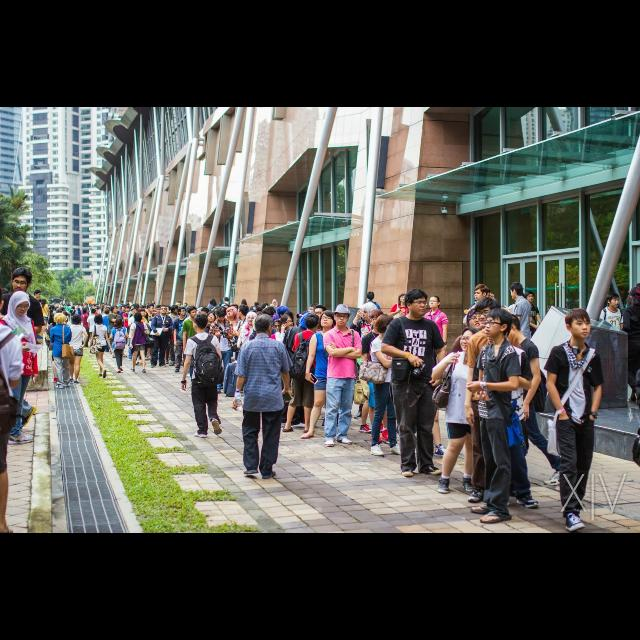head: (565, 308, 593, 340), (484, 309, 512, 339), (476, 298, 502, 329), (12, 268, 34, 296), (405, 290, 427, 316), (460, 328, 482, 354), (502, 312, 522, 338), (254, 314, 274, 338), (485, 322, 505, 346), (0, 288, 14, 320), (12, 292, 30, 316), (375, 314, 395, 334), (360, 304, 380, 322), (378, 314, 396, 334), (193, 314, 209, 334), (305, 314, 321, 334), (334, 306, 350, 326), (369, 310, 385, 330), (320, 310, 336, 328), (475, 284, 489, 302), (510, 283, 524, 301), (606, 293, 620, 309), (282, 315, 294, 331), (237, 305, 249, 319), (246, 312, 258, 326), (302, 313, 314, 327), (278, 308, 290, 320), (429, 297, 441, 309), (273, 320, 283, 334), (188, 307, 198, 319), (227, 307, 237, 319), (525, 291, 535, 303), (218, 309, 226, 323), (207, 312, 217, 322), (56, 314, 64, 324), (73, 315, 81, 325), (34, 290, 42, 300), (160, 306, 168, 316), (170, 306, 180, 314), (400, 294, 408, 304), (51, 314, 59, 322), (95, 315, 103, 323), (111, 306, 119, 314), (138, 309, 146, 317), (135, 314, 143, 322), (178, 308, 186, 316), (367, 292, 375, 300), (178, 310, 185, 318), (116, 319, 122, 327), (132, 309, 138, 317), (155, 306, 161, 314), (41, 299, 47, 305), (105, 310, 111, 316), (125, 306, 131, 312), (139, 310, 145, 316), (272, 300, 278, 306), (223, 297, 229, 303), (83, 310, 89, 314), (122, 306, 126, 312), (92, 310, 96, 314), (212, 300, 216, 304)
person: (462, 298, 534, 504), (494, 312, 574, 488), (379, 288, 446, 478), (464, 307, 520, 525), (478, 321, 540, 511), (430, 327, 492, 496), (231, 314, 293, 480), (0, 266, 46, 432), (358, 312, 408, 458), (0, 291, 40, 447), (300, 310, 348, 440), (322, 304, 363, 448), (181, 314, 225, 438), (361, 312, 399, 446), (284, 314, 322, 434), (282, 313, 321, 429), (348, 302, 386, 421), (500, 282, 534, 382), (462, 284, 496, 381), (361, 309, 389, 417), (274, 314, 302, 418), (266, 320, 296, 410), (596, 291, 626, 381), (420, 295, 450, 377), (237, 312, 265, 396), (209, 308, 235, 394), (48, 312, 76, 390), (268, 305, 296, 379), (182, 306, 206, 386), (518, 290, 546, 358), (232, 304, 254, 388), (45, 312, 67, 384), (67, 314, 89, 386), (222, 307, 242, 385), (89, 314, 113, 378), (150, 305, 174, 369), (388, 293, 414, 352), (172, 307, 194, 373), (362, 291, 382, 355), (129, 312, 149, 374), (109, 318, 129, 374), (203, 312, 221, 374), (108, 306, 128, 358), (165, 305, 182, 365), (169, 318, 189, 368), (134, 308, 150, 367), (136, 309, 152, 361), (128, 308, 142, 362), (152, 305, 166, 353), (100, 309, 114, 353), (86, 308, 100, 348), (30, 289, 42, 333), (79, 308, 91, 348), (122, 305, 134, 345), (268, 299, 282, 329), (221, 296, 231, 336), (39, 298, 49, 332), (208, 299, 218, 333), (120, 306, 128, 342)
